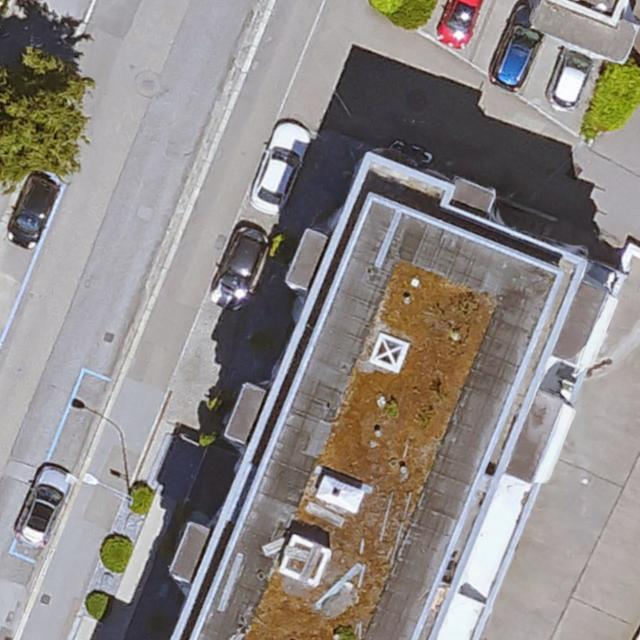tree: (0, 56, 89, 177)
